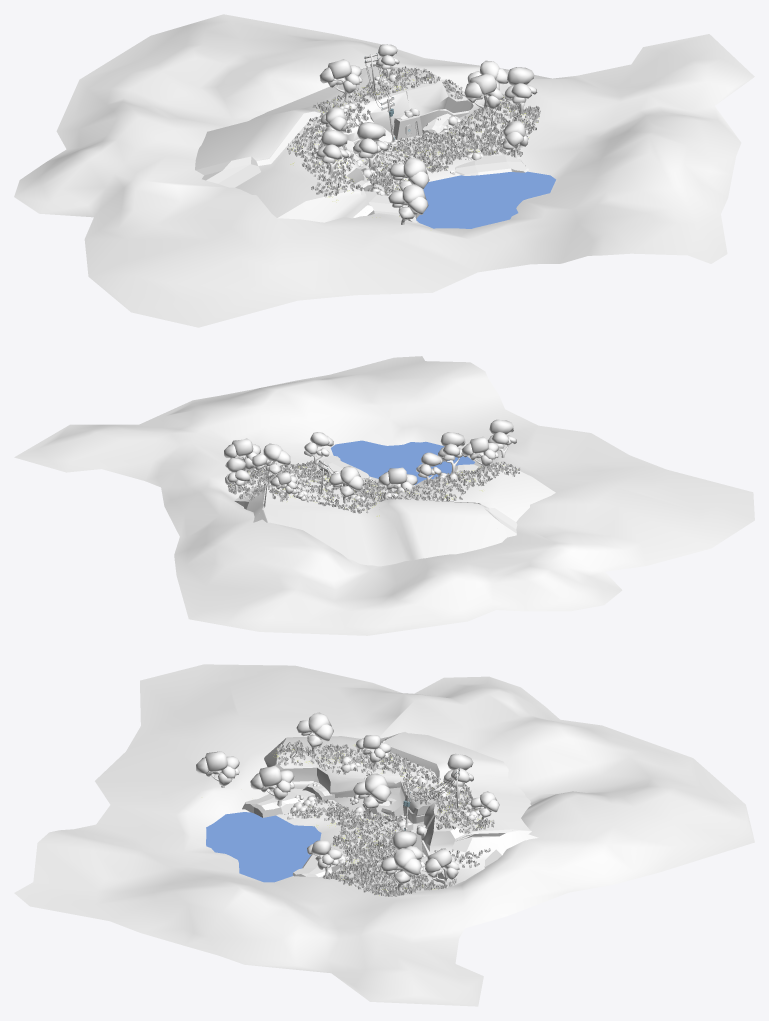
File: bunker.glb
3 views of the same model, one above another, from view 1: azimuth 30°, elevation 25°; view 2: azimuth 150°, elevation 25°; view 3: azimuth 270°, elevation 25° (orthographic). The views are drawn at different scales.
Parts seen in each view (by area): view 1: ground.002, ground.001, water, terrain rock, tree.017, tree.034, tree.020, tree.032, tree.013, tree.033, tree.019, tree.035 (+1 smaller); view 2: ground.002, ground.001, water, tree.034, tree.019, tree.017, tree.033, tree.032, tree.013, tree.020, tree.001, tree.035 (+1 smaller); view 3: ground.002, ground.001, water, terrainrock.002, tree.033, tree.020, tree.013, tree.032, tree.019, tree.001, tree.017, tree.035 (+1 smaller).
Part boxes in pixels (left/top/right/bottom): ground.002: left=14, top=14, right=754, bottom=327; ground.001: left=195, top=64, right=473, bottom=222; water: left=416, top=171, right=555, bottom=228; terrain rock: left=455, top=155, right=528, bottom=175; tree.017: left=319, top=59, right=362, bottom=102; tree.034: left=464, top=73, right=502, bottom=115; tree.020: left=388, top=184, right=428, bottom=224; tree.032: left=353, top=122, right=388, bottom=167; tree.013: left=504, top=67, right=537, bottom=113; tree.033: left=389, top=158, right=429, bottom=191; tree.019: left=316, top=129, right=348, bottom=174; tree.035: left=503, top=120, right=527, bottom=157; ground.002: left=14, top=356, right=754, bottom=635; ground.001: left=234, top=463, right=555, bottom=566; water: left=331, top=440, right=474, bottom=484; tree.034: left=252, top=443, right=290, bottom=480; tree.019: left=462, top=436, right=498, bottom=473; tree.017: left=329, top=465, right=363, bottom=503; tree.033: left=438, top=432, right=467, bottom=472; tree.032: left=378, top=467, right=417, bottom=492; tree.013: left=224, top=438, right=260, bottom=471; tree.020: left=488, top=419, right=516, bottom=457; tree.001: left=225, top=458, right=250, bottom=494; tree.035: left=304, top=432, right=333, bottom=464; ground.002: left=14, top=664, right=754, bottom=1006; ground.001: left=264, top=732, right=538, bottom=885; water: left=206, top=812, right=321, bottom=882; terrainrock.002: left=242, top=788, right=315, bottom=817; tree.033: left=250, top=765, right=294, bottom=806; tree.020: left=196, top=751, right=239, bottom=787; tree.013: left=380, top=848, right=421, bottom=893; tree.032: left=353, top=773, right=391, bottom=816; tree.019: left=296, top=712, right=333, bottom=753; tree.001: left=425, top=849, right=459, bottom=887; tree.017: left=443, top=753, right=473, bottom=798; tree.035: left=307, top=840, right=342, bottom=876.
Bounding box in the file's own units: 86.49 × 14.09 × 79.03.
